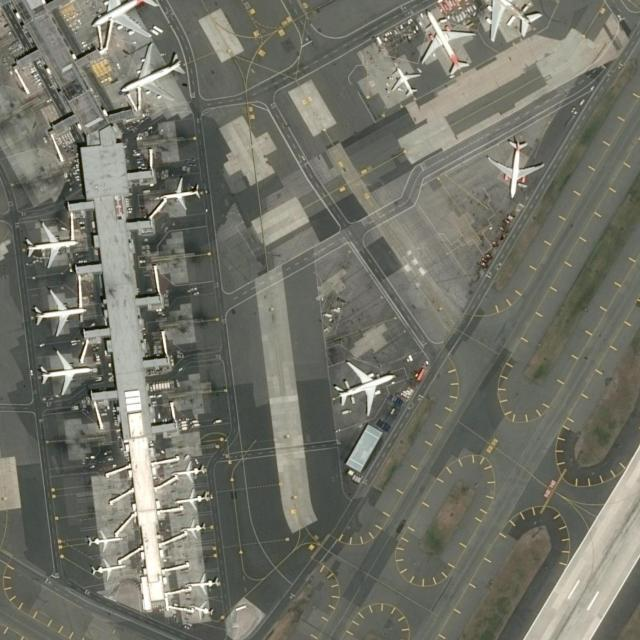Aircraft: (118, 38, 188, 104), (415, 7, 475, 77), (479, 138, 547, 198), (329, 356, 395, 416), (28, 286, 90, 338), (36, 345, 96, 397), (21, 218, 79, 269), (476, 0, 546, 42), (87, 0, 161, 39), (153, 173, 203, 213), (384, 59, 422, 97), (169, 452, 208, 486), (175, 593, 221, 621), (167, 487, 213, 514), (81, 525, 123, 553), (85, 553, 127, 581), (180, 569, 220, 597), (174, 514, 208, 542)
